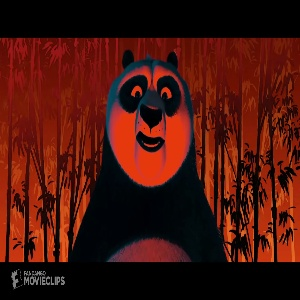po: (73, 47, 230, 261)
